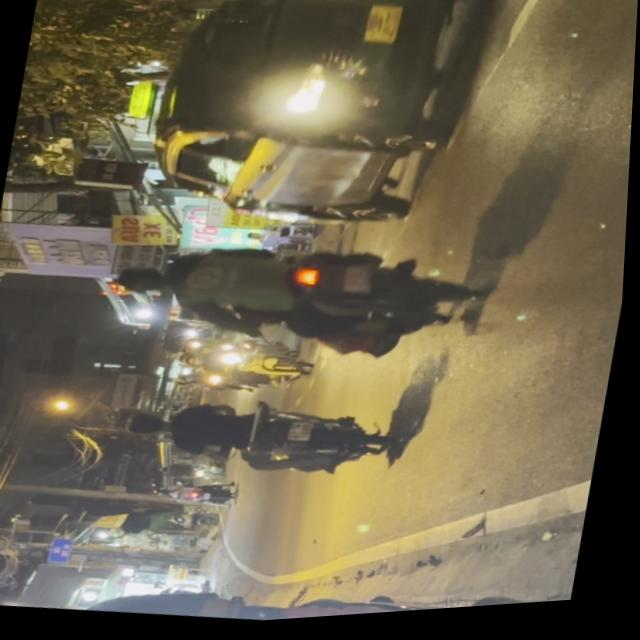helmet: (115, 260, 179, 304)
licenseplate: (104, 215, 474, 396), (118, 379, 416, 499)
motorcyclist: (125, 409, 180, 443)
nohelmet: (343, 266, 379, 299), (292, 423, 319, 447)
